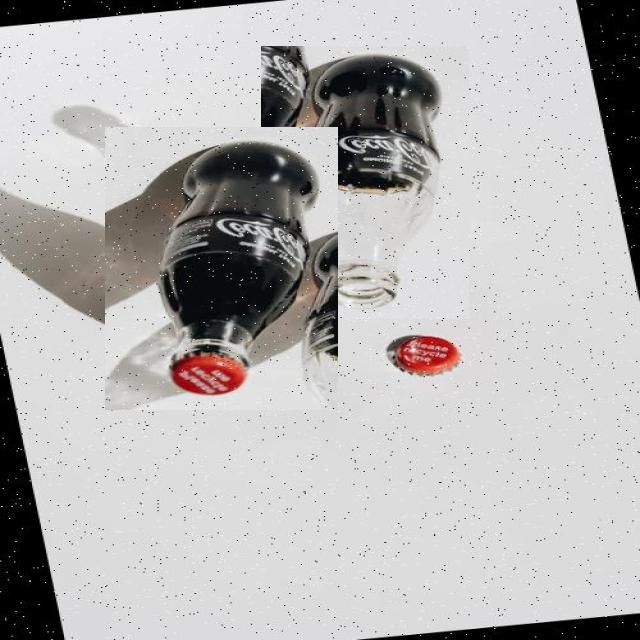coca-cola: (105, 127, 338, 410), (261, 46, 469, 319)
